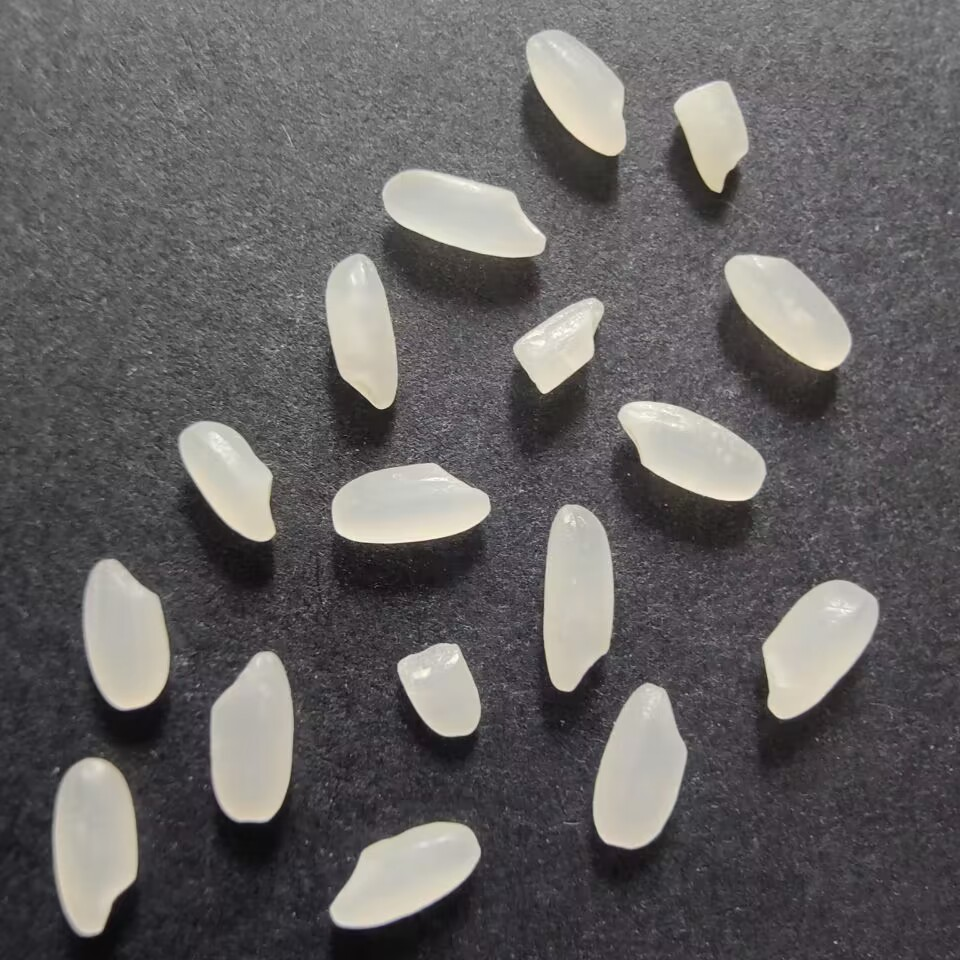broken: (509, 292, 607, 396), (392, 640, 489, 744), (669, 73, 751, 195)
rice: (325, 817, 484, 935), (757, 578, 883, 722), (49, 755, 144, 942), (206, 643, 298, 833), (592, 678, 692, 852), (722, 245, 856, 373), (613, 395, 770, 504), (377, 166, 551, 260), (326, 458, 497, 550), (539, 500, 618, 695), (522, 22, 634, 158), (80, 554, 175, 712), (322, 249, 406, 412), (177, 417, 281, 547)
